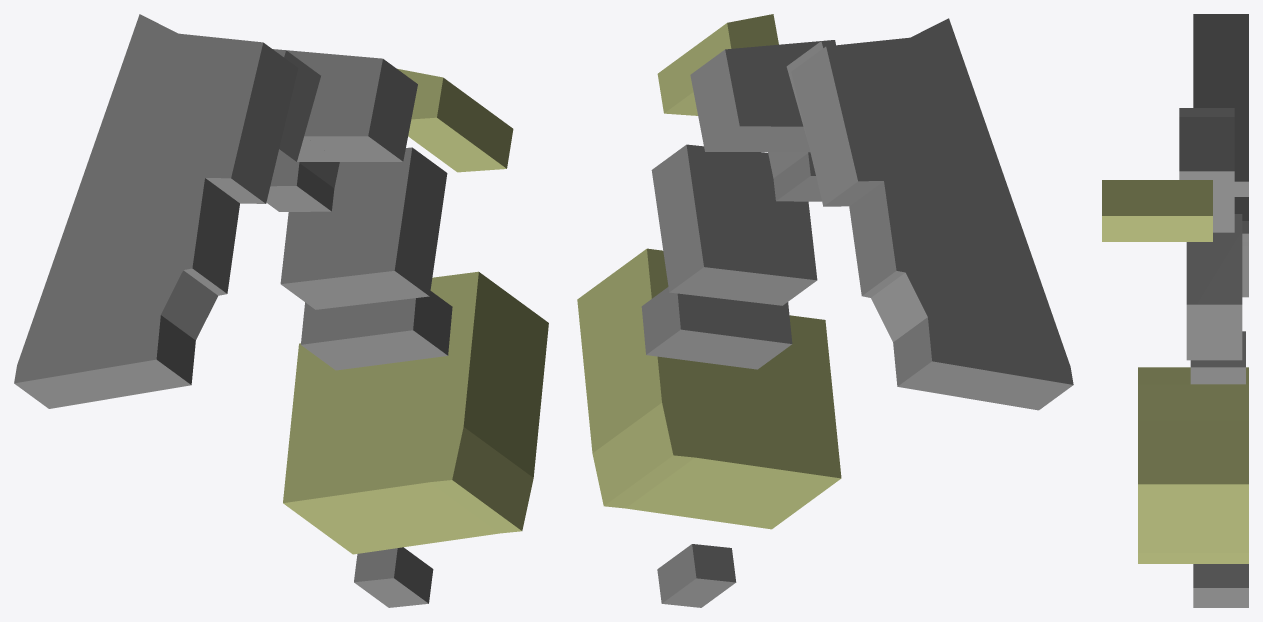
3 views of the same model, side by side, from view 1: azimuth 30°, elevation 25°; view 2: azimuth 150°, elevation 25°; view 3: azimuth 270°, elevation 25° (orthographic). The views are drawn at different scales.
Visible parts, largest first — view 1: 0_1_2_0_1_0_1_1_1; view 2: 0_1_2_0_1_0_1_1_1; view 3: 0_1_2_0_1_0_1_1_1.
Boxes of the visible parts, x1,y1,x2,y2 form: 0_1_2_0_1_0_1_1_1: (14,14,548,607); 0_1_2_0_1_0_1_1_1: (577,14,1073,607); 0_1_2_0_1_0_1_1_1: (1102,14,1248,607).
Size of the model in its own units: 22.98 by 29.57 by 7.94.
